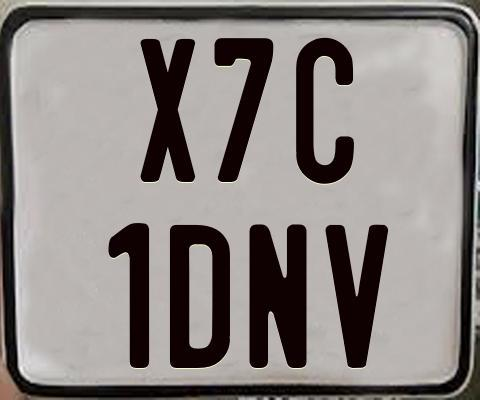1: (107, 223, 153, 374)
7: (213, 35, 276, 180)
C: (294, 37, 354, 183)
D: (169, 222, 231, 370)
N: (246, 221, 308, 371)
V: (324, 225, 391, 372)
X: (137, 37, 193, 184)
